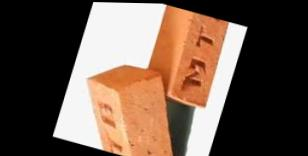brick: (100, 63, 210, 156), (163, 10, 232, 107)
